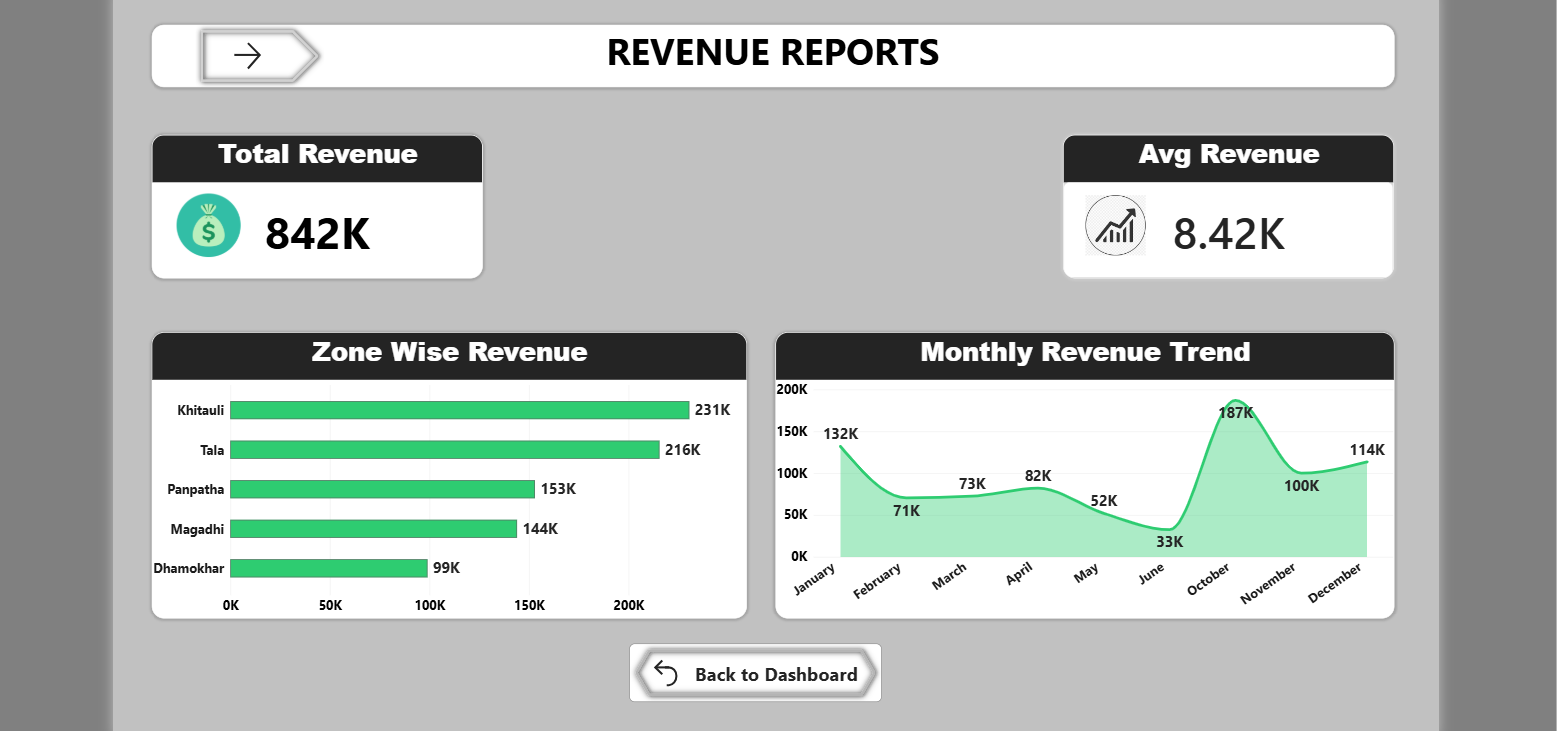

This screenshot's page, from the dashboard's own definition file:
{"tool":"powerbi","page":{"name":"Page 2","canvas":[1920,1080],"ordinal":1},"visuals":[{"type":"card","title":"Total Revenue","fields":{"Values":["safari_bookings.Total Revenue"]},"box":[56.1,208.1,479.6,208.1],"z":0},{"type":"image","box":[83.2,293.2,110.4,92.3],"z":1000},{"type":"cardVisual","title":"Avg Revenue","fields":{"Data":["safari_bookings.Avg Revenue"]},"box":[1375.3,208.1,479.6,208.1],"z":2000},{"type":"image","box":[1407.9,293.2,86.9,92.3],"z":3000},{"type":"clusteredBarChart","title":"Zone Wise Revenue","fields":{"Category":["Dim_Zone.Zone"],"Y":["safari_bookings.Total Revenue"]},"box":[56.1,494,861.4,414.4],"z":4000},{"type":"lineChart","title":"Monthly Revenue Trend","fields":{"Category":["Dim_Date.Month"],"Y":["Sum(safari_bookings.Revenue)"]},"box":[959.1,494,895.8,414.4],"z":5000},{"type":"textbox","box":[56.1,48.9,821.6,110.4],"z":6000},{"type":"textbox","box":[56.1,48.9,1798.8,90.5],"z":7000},{"type":"actionButton","box":[747.4,944.6,365.6,85.1],"z":8000},{"type":"actionButton","box":[119.4,48.9,186.4,90.5],"z":9000}]}

Visuals, with their boxes on the page's 1920x1080 design canvas (x1, y1, x2, y2). These are canvas units, not pixel positions in the 1560x731 screenshot, which may show the page scaled, cropped or inside an application window:
"Total Revenue" card: (left=56, top=208, right=536, bottom=416)
image: (left=83, top=293, right=194, bottom=386)
"Avg Revenue" cardVisual: (left=1375, top=208, right=1855, bottom=416)
image: (left=1408, top=293, right=1495, bottom=386)
"Zone Wise Revenue" clusteredBarChart: (left=56, top=494, right=918, bottom=908)
"Monthly Revenue Trend" lineChart: (left=959, top=494, right=1855, bottom=908)
textbox: (left=56, top=49, right=878, bottom=159)
textbox: (left=56, top=49, right=1855, bottom=139)
actionButton: (left=747, top=945, right=1113, bottom=1030)
actionButton: (left=119, top=49, right=306, bottom=139)
